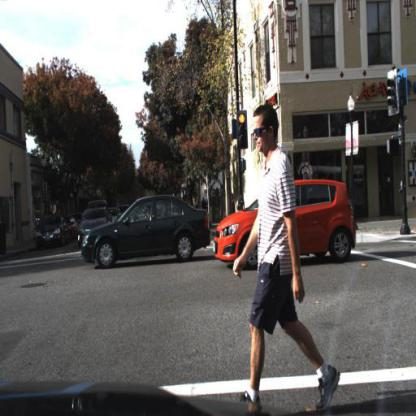car: (213, 180, 357, 270), (82, 195, 213, 271), (77, 207, 115, 251), (38, 216, 70, 248), (109, 205, 123, 228)
pedestrian: (234, 103, 341, 410), (406, 168, 416, 229)
trafficLight: (237, 111, 249, 152)
